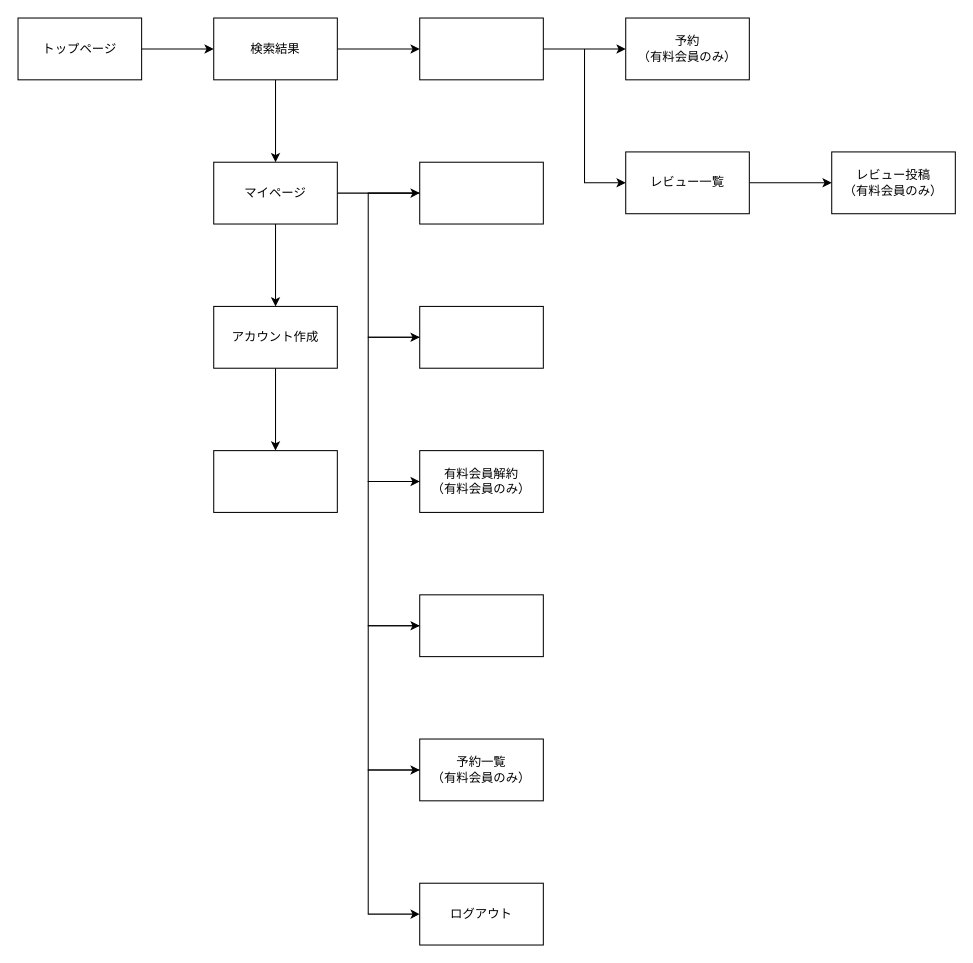
This 973x963 diagram has some shape labels left out. The centre of each missing label's shape, as x and y in pixels:
"クレジットカード 編集 （有料会員のみ）" goes at (481,625).
"ログイン" goes at (275,481).
"会員情報編集" goes at (481,192).
"店舗詳細" goes at (481,48).
"有料会員登録 （無料会員のみ）" goes at (481,336).
